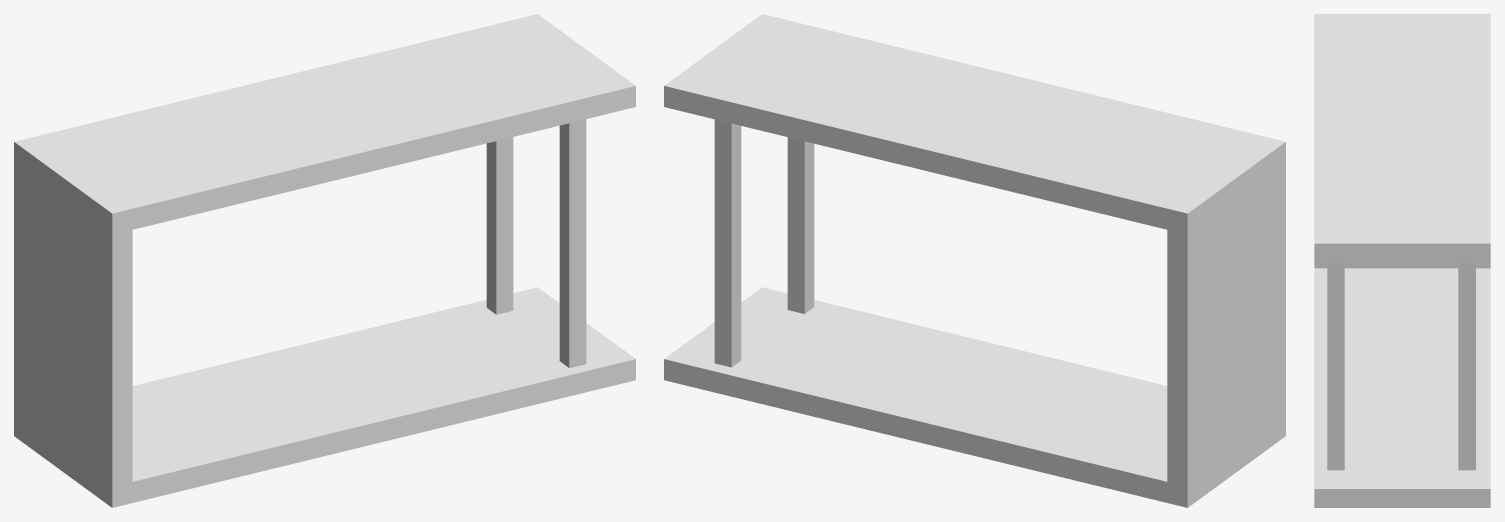
The model's file is shelf_068.glb.
3 views of the same model, side by side, from view 1: azimuth 30°, elevation 25°; view 2: azimuth 150°, elevation 25°; view 3: azimuth 270°, elevation 25° (orthographic). The views are drawn at different scales.
Visible parts, largest first — view 1: shelf_068; view 2: shelf_068; view 3: shelf_068.
Part boxes in pixels (box(x1,y1,x2,y2)): shelf_068: box(14, 14, 635, 507); shelf_068: box(664, 14, 1285, 507); shelf_068: box(1314, 14, 1490, 507).
Bounding box in the file's own units: 0.9243 × 0.4964 × 0.3002.
Materials: 1 (1 with a texture image).
